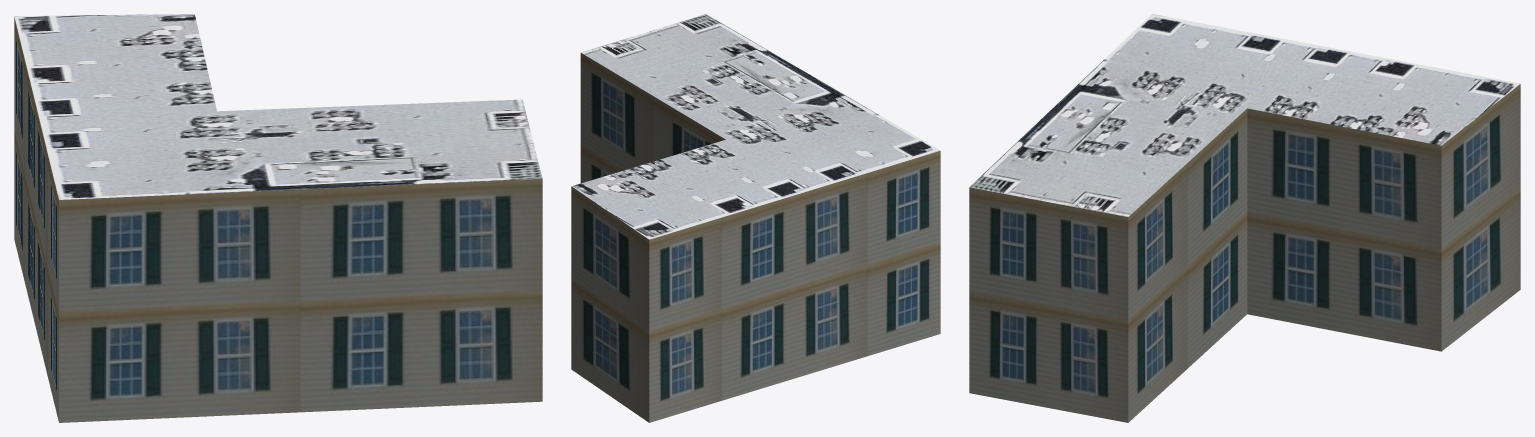
The model's file is ResTex__578.fbx.
3 views of the same model, side by side, from view 1: azimuth 30°, elevation 25°; view 2: azimuth 150°, elevation 25°; view 3: azimuth 270°, elevation 25° (orthographic). The views are drawn at different scales.
Visible parts, largest first — view 1: CityEngineMaterial_7_m, CityEngineMaterial_15_m; view 2: CityEngineMaterial_7_m, CityEngineMaterial_15_m; view 3: CityEngineMaterial_7_m, CityEngineMaterial_15_m.
Part boxes in pixels (<box>): CityEngineMaterial_7_m: <box>14,17,542,422</box>; CityEngineMaterial_15_m: <box>14,14,542,199</box>; CityEngineMaterial_7_m: <box>571,53,940,422</box>; CityEngineMaterial_15_m: <box>572,14,939,239</box>; CityEngineMaterial_7_m: <box>969,84,1520,422</box>; CityEngineMaterial_15_m: <box>969,14,1520,216</box>.
Bounding box in the file's own units: 12.69 × 6 × 14.57.
Materials: 2 (2 with a texture image).
